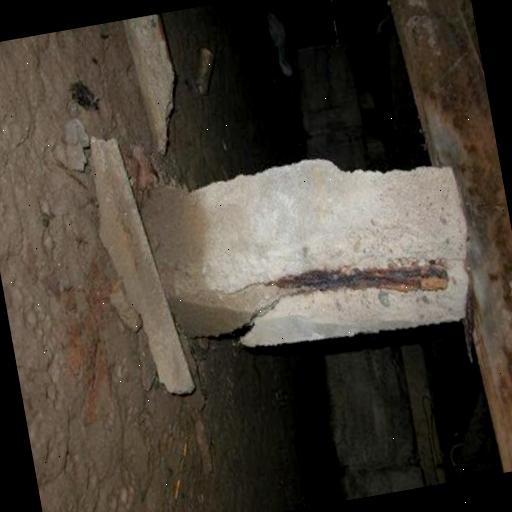spalling: (218, 211, 472, 343)
